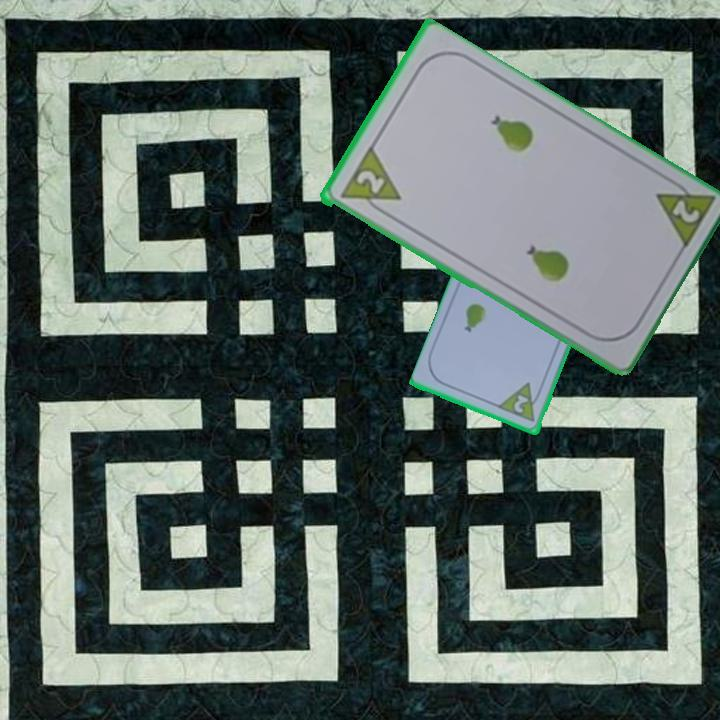2p: (496, 380, 545, 426), (351, 166, 387, 197), (667, 196, 702, 227)
